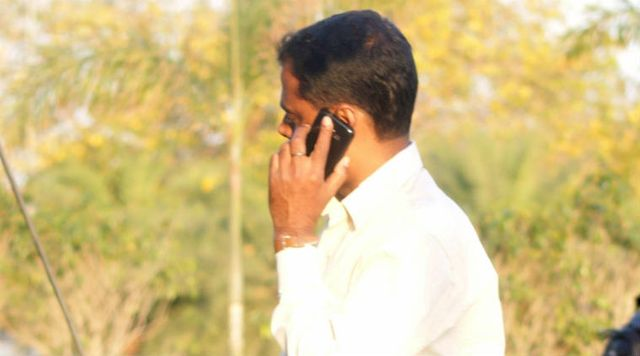phone: (301, 112, 365, 173)
talk: (269, 99, 363, 233)
